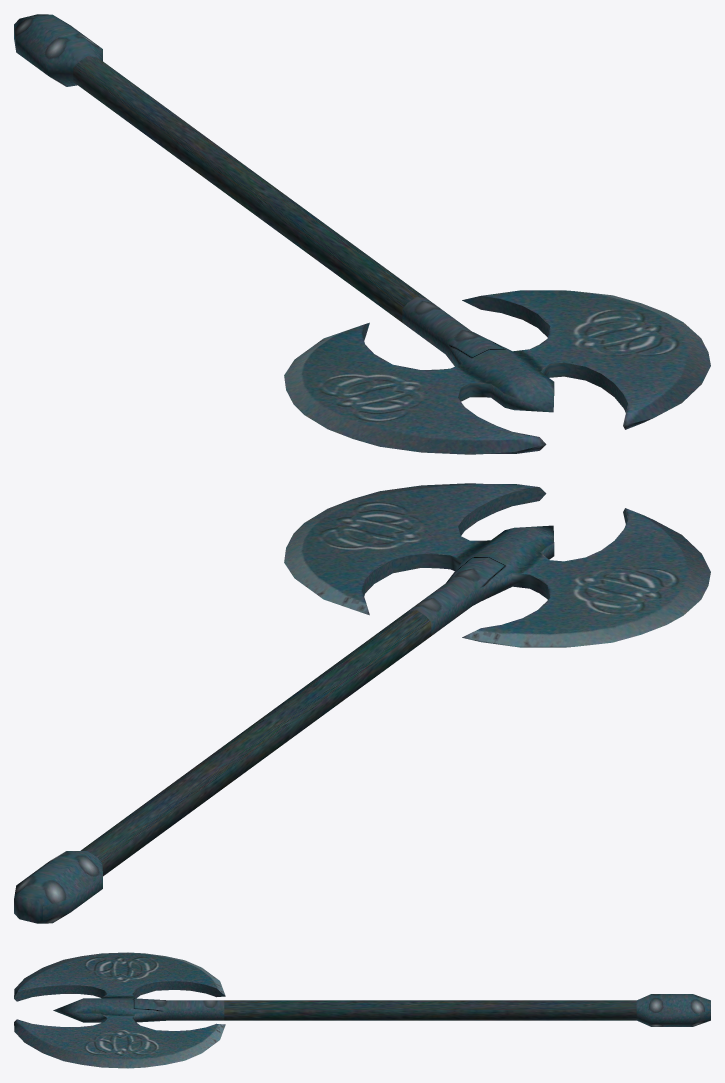
The model's file is axe2.obj.
3 renders of one model, top to bottom at view 1: azimuth 30°, elevation 25°; view 2: azimuth 150°, elevation 25°; view 3: azimuth 270°, elevation 25°, orthographic. The views are drawn at different scales.
Visible parts, largest first — view 1: object; view 2: object; view 3: object.
Part boxes in pixels (bbox=[...]): object: bbox=[14, 14, 710, 454]; object: bbox=[14, 483, 710, 923]; object: bbox=[14, 952, 710, 1068].
Size of the model in its own units: 1.26 by 0.1405 by 3.21.
